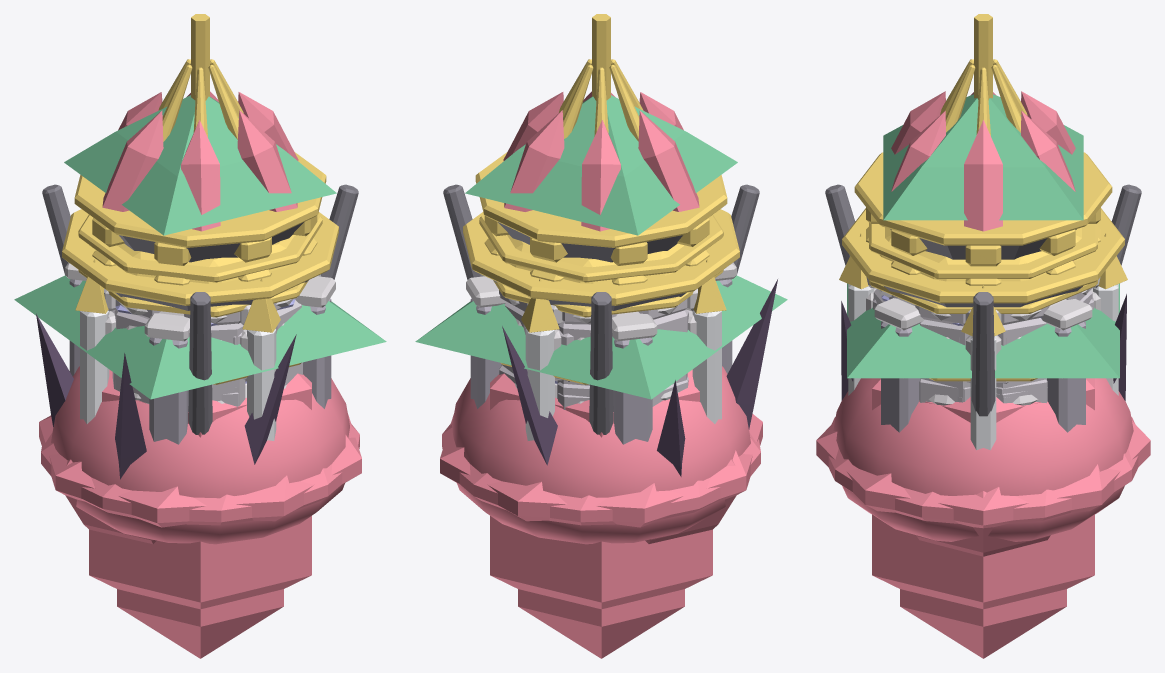
File: towers.glb
3 renders of one model, left to right at view 1: azimuth 30°, elevation 25°; view 2: azimuth 150°, elevation 25°; view 3: azimuth 270°, elevation 25°, orthographic.
Visible parts, largest first — view 1: sp_jade, gem_cabochon, sp_malachite, gem_hex, ped_q4, sp_starRuby, gem_cushion, sp_silver, gem_long, sp_bloodstone, ped_q3, gem_brilliant (+3 smaller); view 2: sp_jade, gem_cabochon, sp_malachite, gem_hex, ped_q4, sp_starRuby, gem_cushion, sp_silver, sp_bloodstone, gem_long, ped_q3, gem_brilliant (+4 smaller); view 3: sp_jade, gem_cabochon, sp_malachite, gem_hex, ped_q4, sp_starRuby, ped_q3, gem_cushion, gem_long, sp_silver, gem_brilliant, ped_q2 (+4 smaller).
Boxes of the visible parts, box(x1,y1,x2,y2) form: sp_jade: box(14, 14, 386, 399); gem_cabochon: box(51, 366, 349, 544); sp_malachite: box(42, 91, 358, 434); gem_hex: box(89, 369, 311, 609); ped_q4: box(65, 215, 335, 421); sp_starRuby: box(62, 209, 338, 310); gem_cushion: box(39, 414, 361, 527); sp_silver: box(75, 259, 320, 440); gem_long: box(117, 589, 283, 658); sp_bloodstone: box(36, 299, 296, 479); ped_q3: box(69, 238, 331, 443); gem_brilliant: box(41, 423, 359, 525); sp_jade: box(415, 14, 787, 399); gem_cabochon: box(452, 366, 750, 544); sp_malachite: box(443, 91, 759, 434); gem_hex: box(490, 369, 712, 609); ped_q4: box(466, 215, 736, 438); sp_starRuby: box(463, 209, 739, 310); gem_cushion: box(440, 414, 762, 527); sp_silver: box(481, 259, 726, 440); sp_bloodstone: box(502, 279, 777, 476); gem_long: box(518, 589, 684, 658); ped_q3: box(470, 238, 732, 443); gem_brilliant: box(442, 423, 760, 525); sp_jade: box(847, 14, 1119, 378); gem_cabochon: box(833, 378, 1133, 541); sp_malachite: box(825, 91, 1141, 416); gem_hex: box(872, 378, 1094, 609); ped_q4: box(866, 207, 1100, 431); sp_starRuby: box(842, 208, 1124, 307); ped_q3: box(866, 227, 1100, 432); gem_cushion: box(816, 421, 1150, 528); gem_long: box(900, 589, 1066, 658); sp_silver: box(839, 233, 1127, 450); gem_brilliant: box(828, 417, 1138, 523); ped_q2: box(866, 277, 1100, 432).
Bounding box in the file's own units: 1.08 × 2.2 × 1.04.
